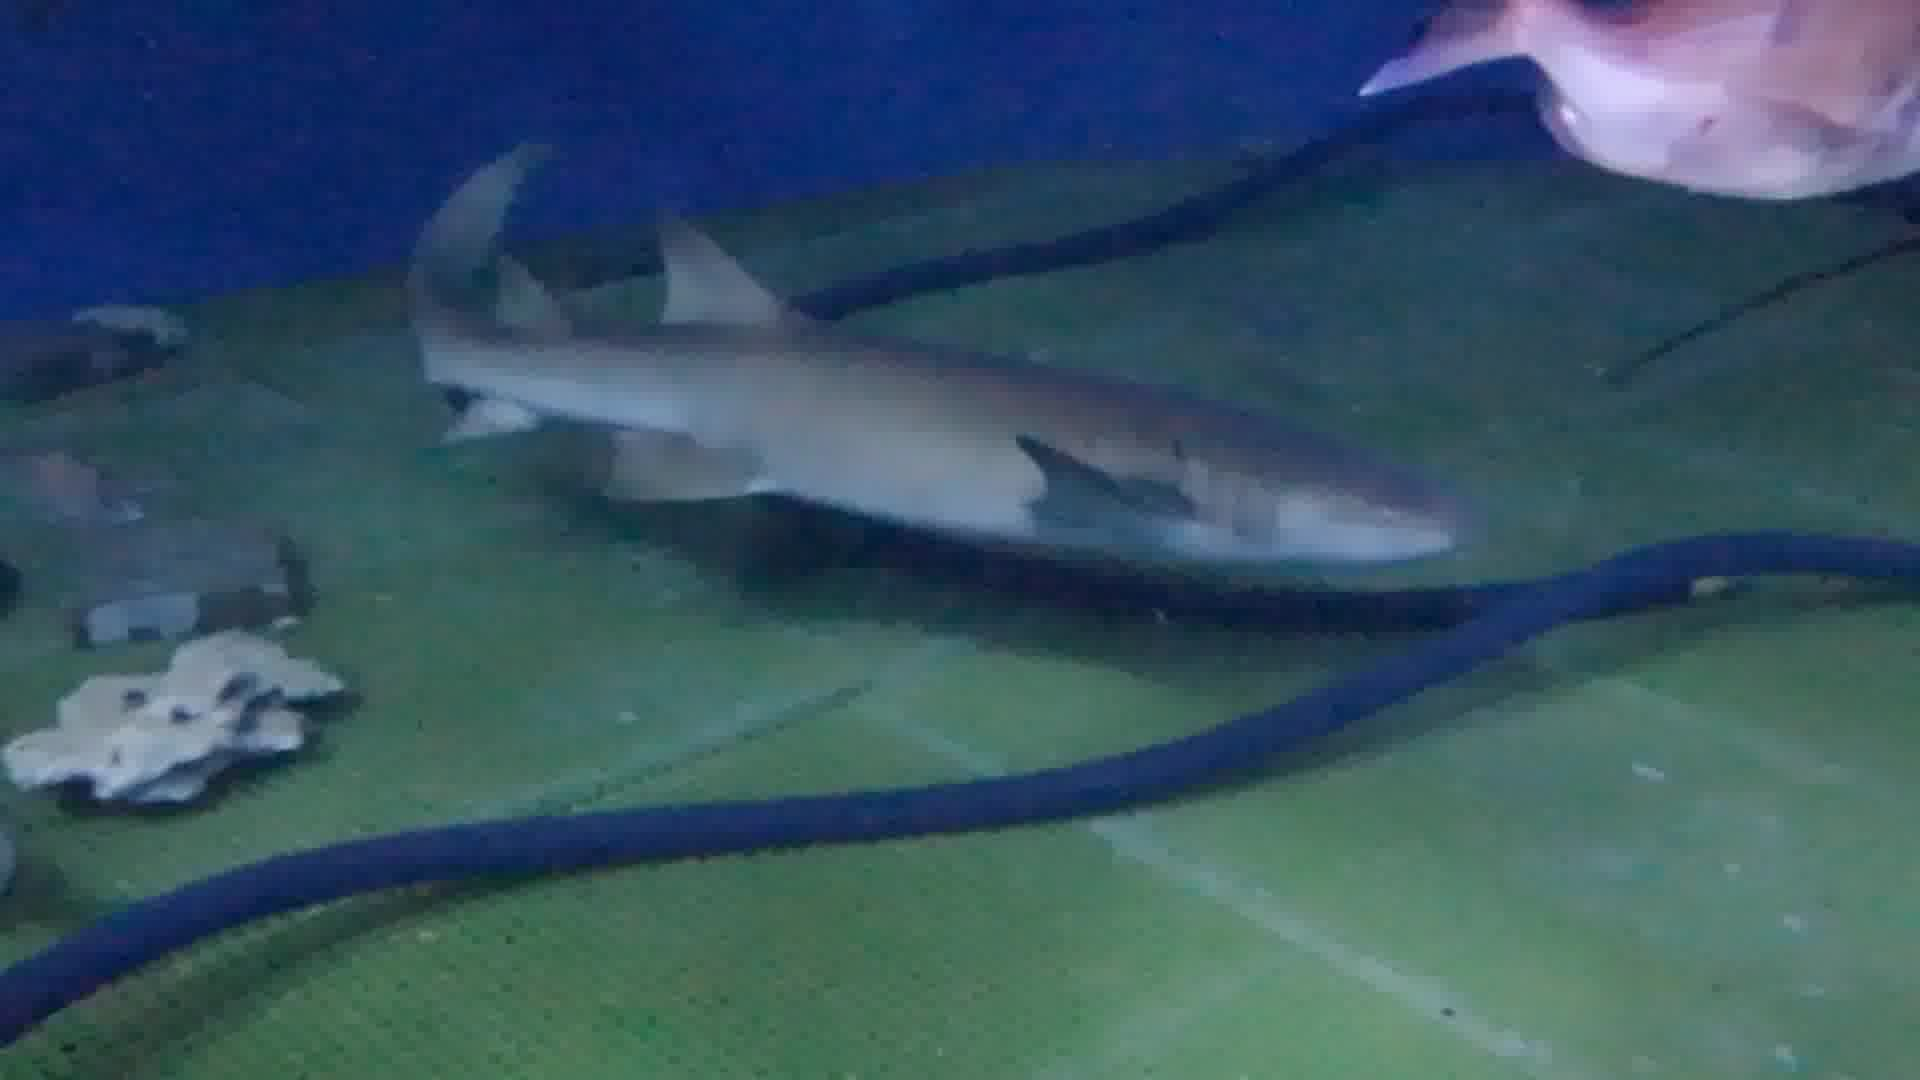Nebrius ferrugineus: (422, 243, 1452, 574)
